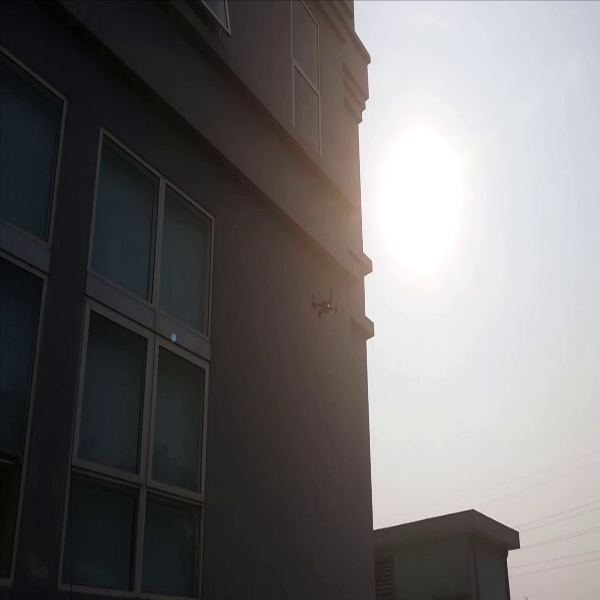drone: (306, 289, 341, 321)
